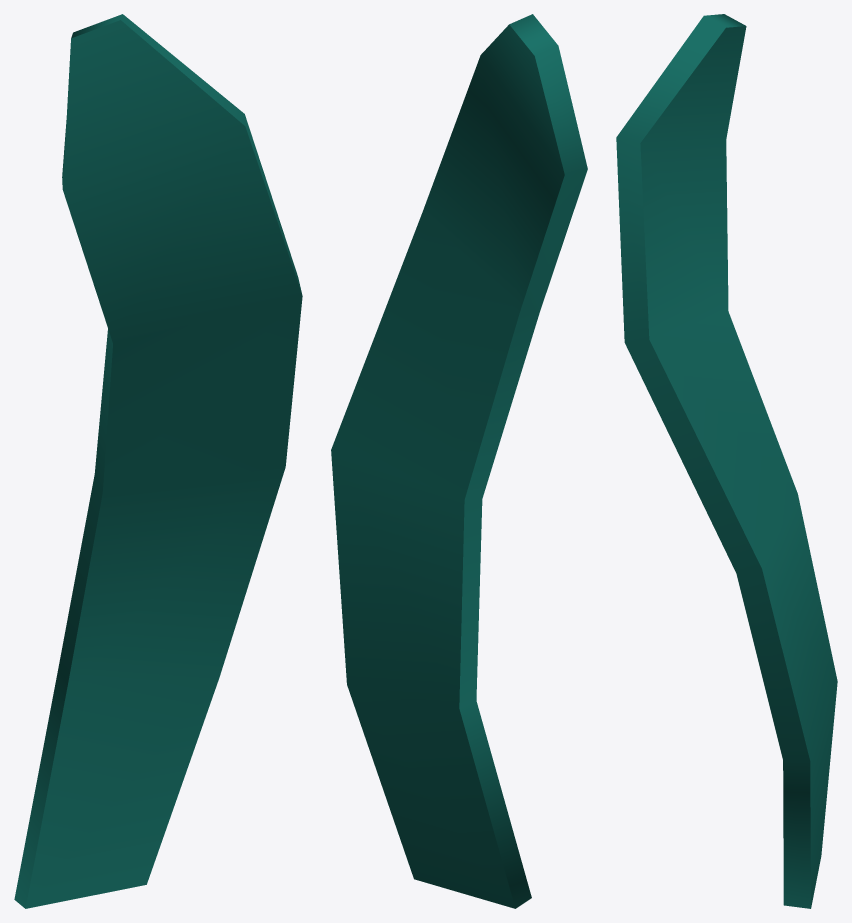
Rendered from Sea_plant_5_3.002.fbx.
3 renders of one model, left to right at view 1: azimuth 30°, elevation 25°; view 2: azimuth 150°, elevation 25°; view 3: azimuth 270°, elevation 25°, orthographic. The views are drawn at different scales.
Visible parts, largest first — view 1: Sea_plant_5_3.002; view 2: Sea_plant_5_3.002; view 3: Sea_plant_5_3.002.
Part boxes in pixels (x1,y1,x2,y2): Sea_plant_5_3.002: [14, 14, 302, 908]; Sea_plant_5_3.002: [331, 14, 587, 908]; Sea_plant_5_3.002: [616, 14, 837, 908].
Size of the model in its own units: 0.2918 by 1.03 by 0.2409.
